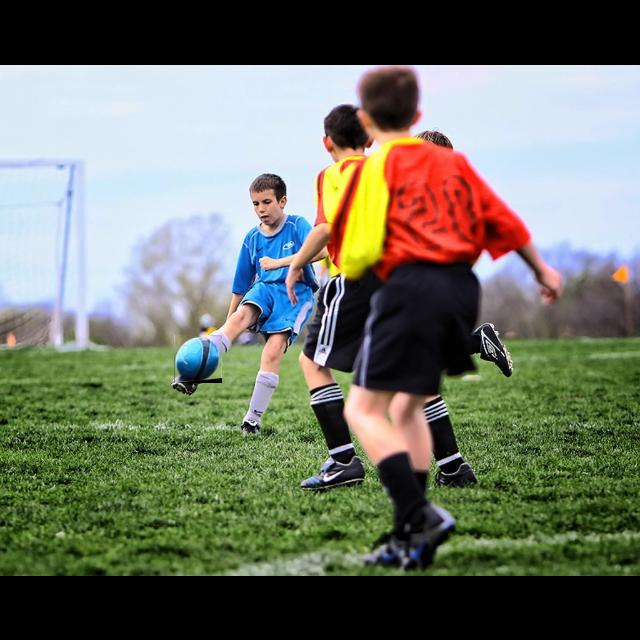Football: (174, 335, 222, 383)
